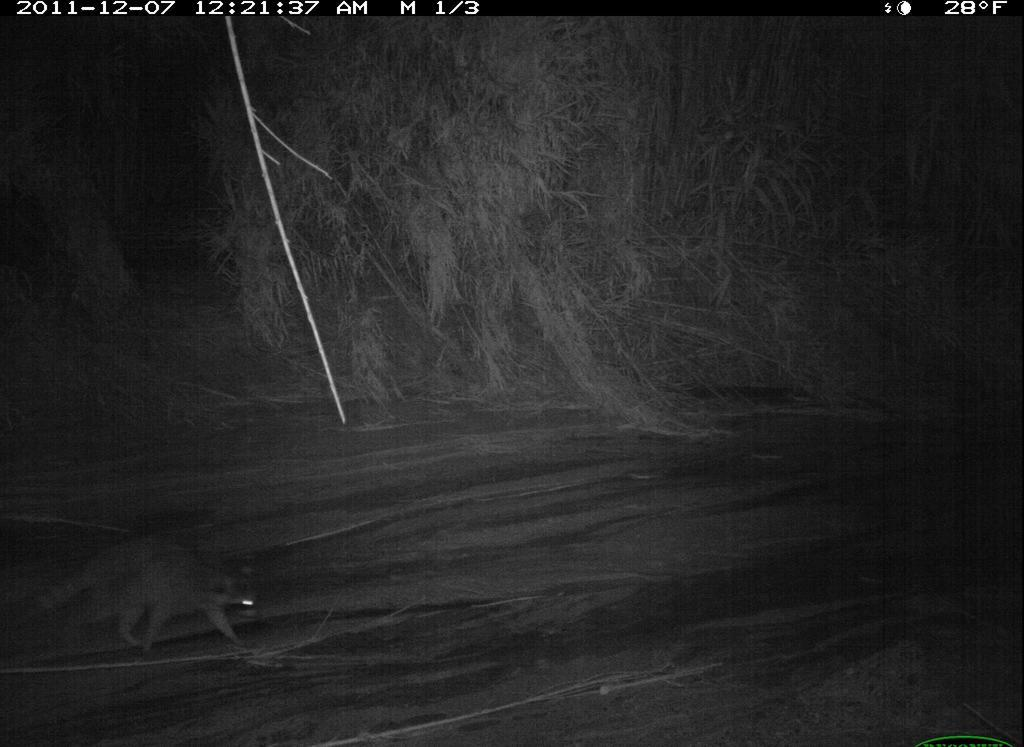raccoon: (13, 524, 281, 665)
